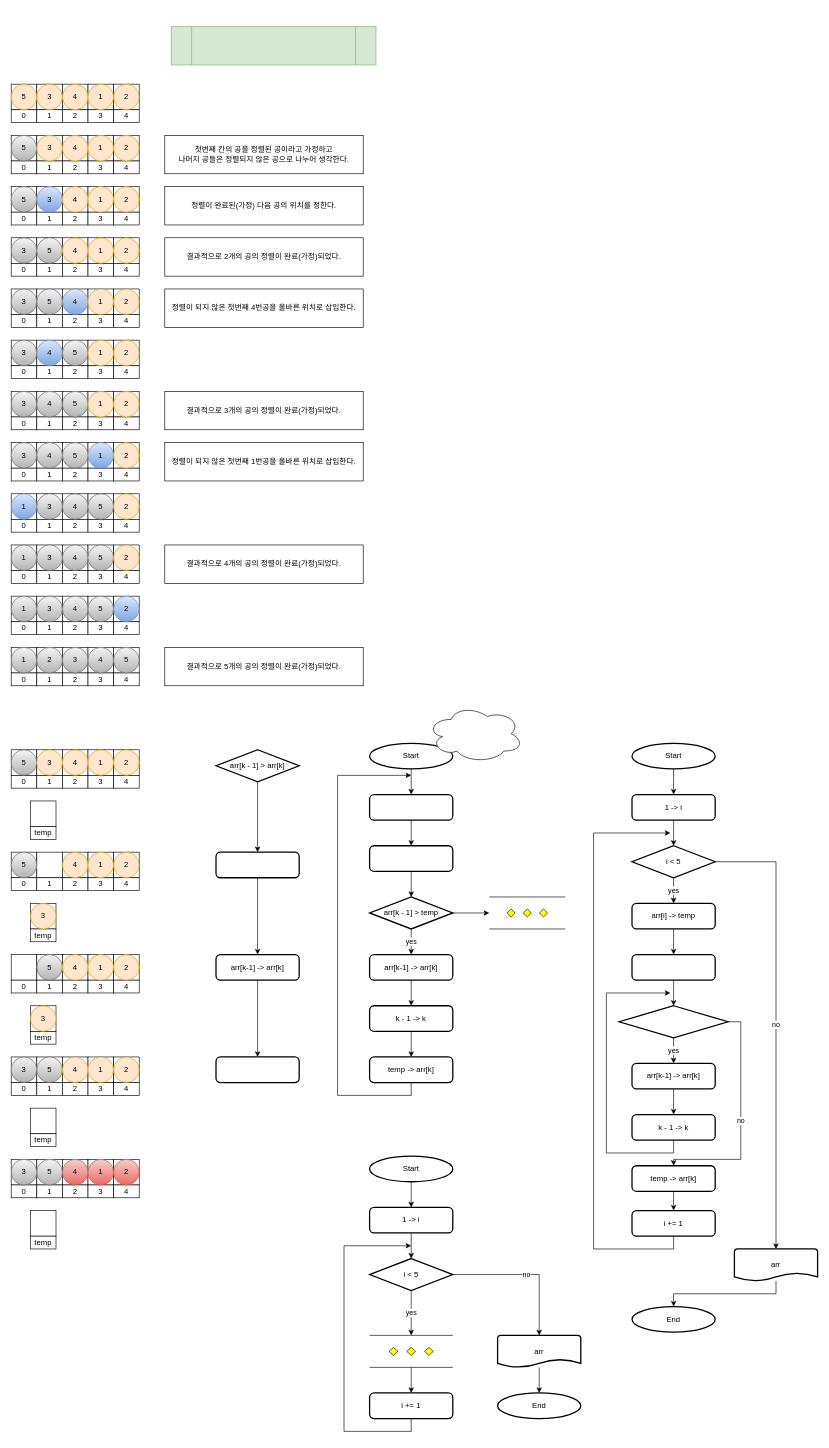
This 829x1448 diagram has some shape labels left out. Here are the shapes that lost their labels. From the top down, the centre of each, then its label:
(x=273, y=45): Insertion Sort
(x=475, y=733): temp랑 비교하는 게 특징
(x=411, y=807): arr[1] -> temp
(x=257, y=864): arr[k] -> temp
(x=411, y=858): 1 -> k
(x=673, y=967): i -> k
(x=673, y=1021): arr[k - 1] > temp and k > 0
(x=257, y=1069): temp -> arr[k-1]
